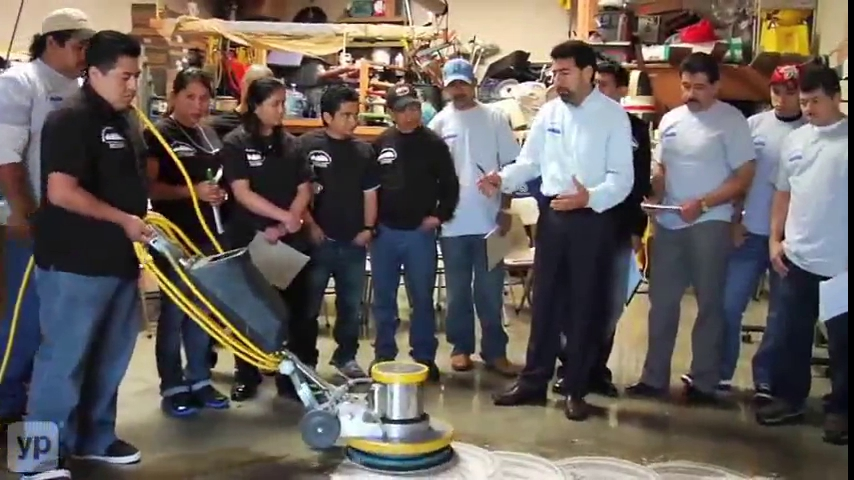person: (17, 30, 156, 479), (476, 40, 635, 421), (627, 52, 755, 406), (1, 8, 98, 441), (755, 66, 848, 444), (141, 68, 228, 419), (427, 59, 521, 378), (222, 78, 313, 401), (371, 85, 459, 384), (298, 85, 380, 384)
